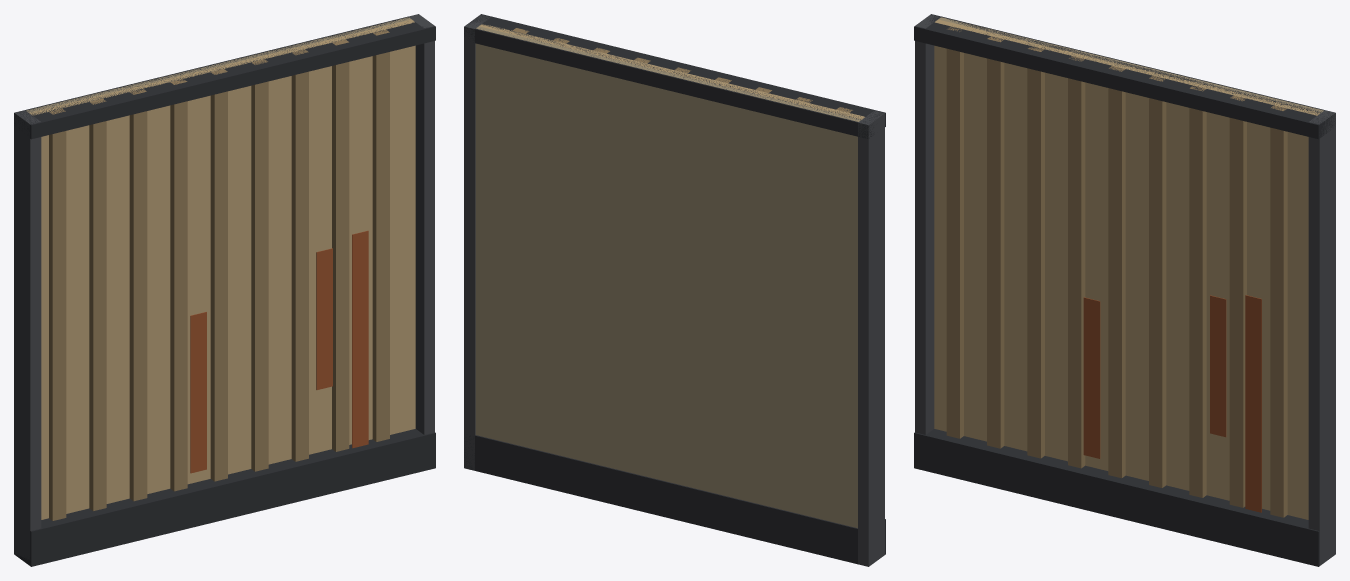
The model's file is SM_Bld_Wall_Metal_01.glb.
The picture shows the model from 3 angles, left to right: view 1: azimuth 30°, elevation 25°; view 2: azimuth 150°, elevation 25°; view 3: azimuth 330°, elevation 25°; orthographic projection.
Visible parts, largest first — view 1: SM_Bld_Wall_Metal_01; view 2: SM_Bld_Wall_Metal_01; view 3: SM_Bld_Wall_Metal_01.
Part boxes in pixels (<box>): SM_Bld_Wall_Metal_01: <box>14,14,435,566</box>; SM_Bld_Wall_Metal_01: <box>464,14,885,566</box>; SM_Bld_Wall_Metal_01: <box>914,14,1335,566</box>.
Size of the model in its own units: 3 by 3.13 by 0.22.
1 material, 1 textured.
